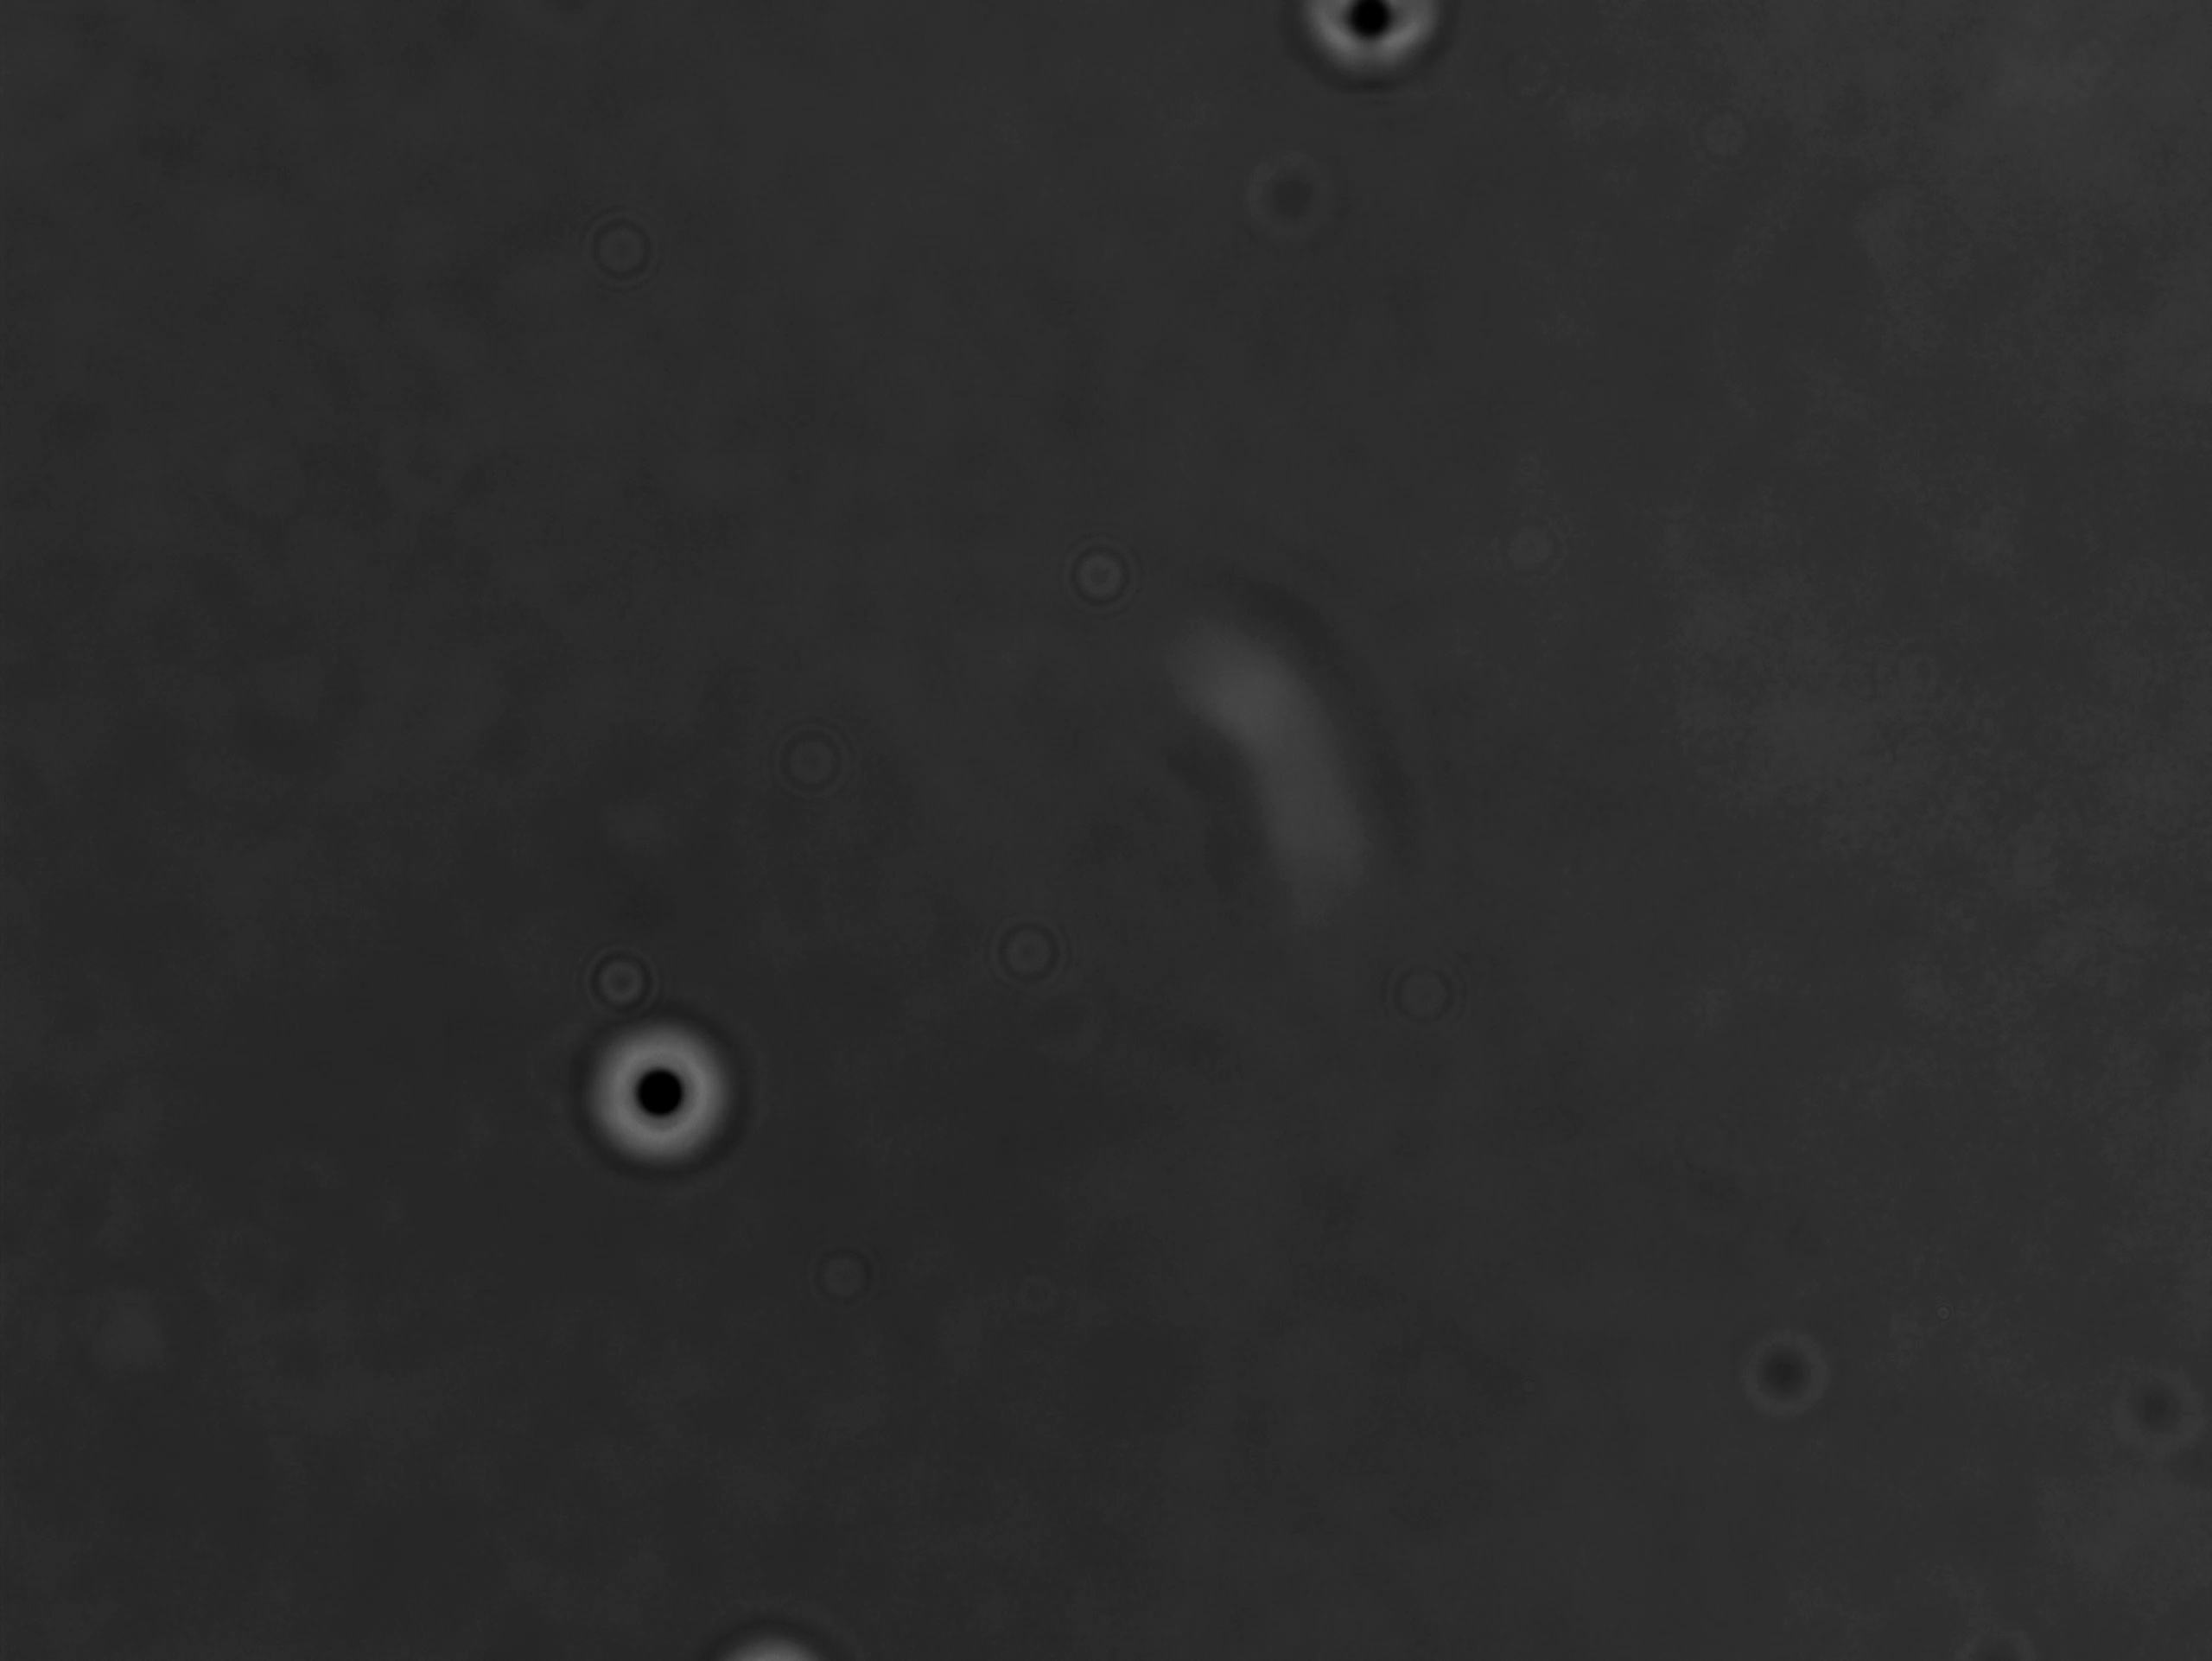depth:-40: (579, 1005, 755, 1174)
